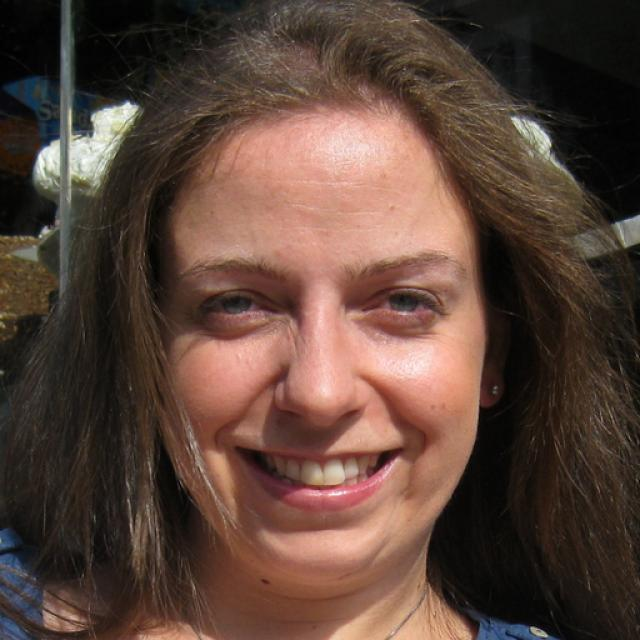happy: (152, 111, 488, 590)
